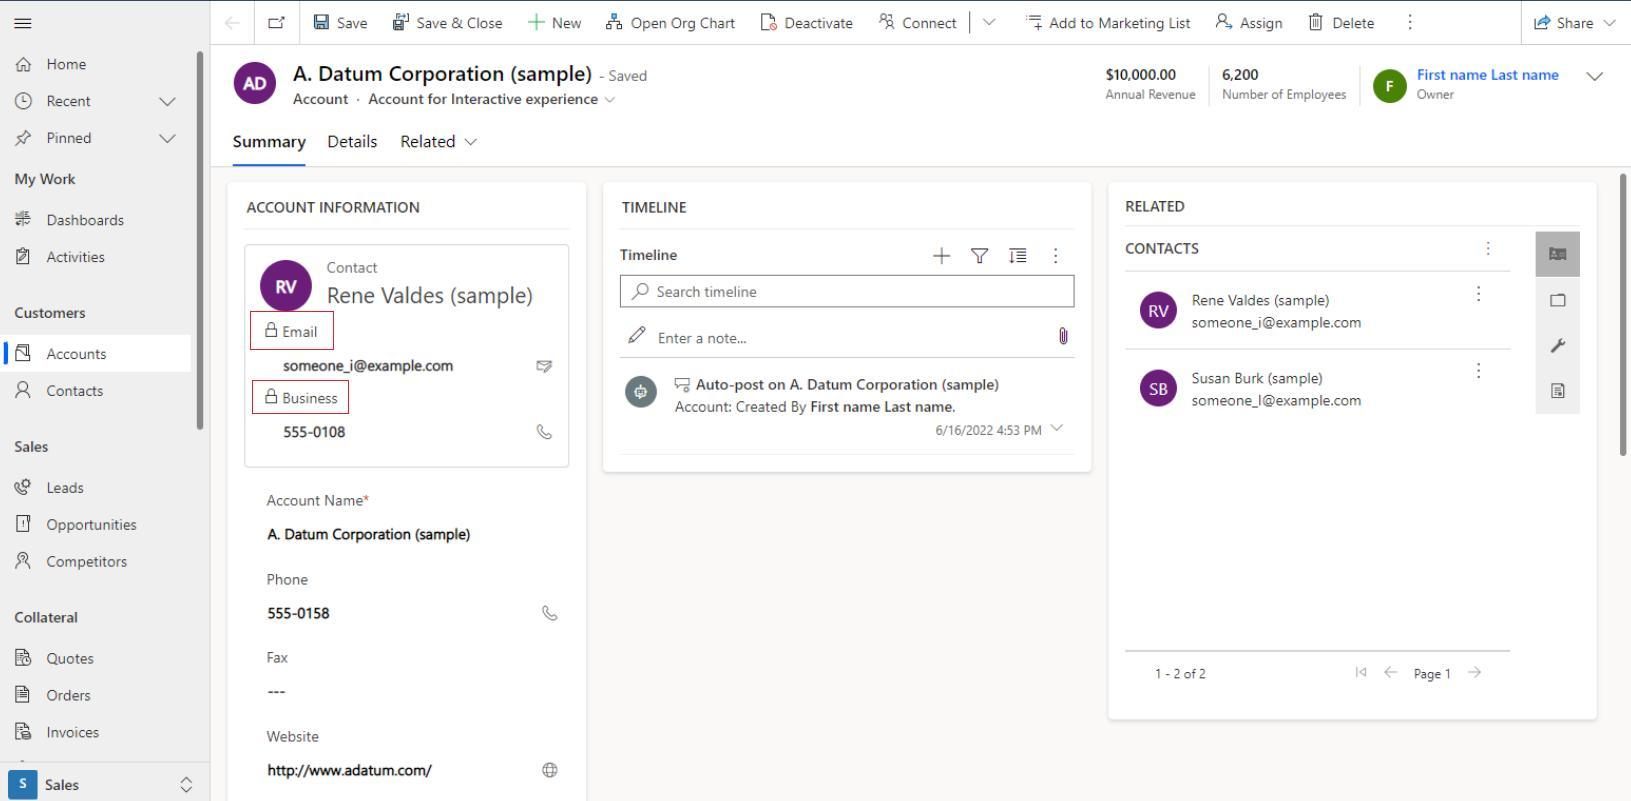button: (231, 124, 312, 166)
icon: (1545, 287, 1573, 314), (12, 14, 40, 37), (15, 87, 37, 114), (626, 322, 650, 347), (1543, 243, 1570, 265), (390, 11, 414, 35), (1547, 378, 1570, 403), (1545, 335, 1572, 356), (12, 53, 36, 76), (222, 12, 245, 35), (14, 512, 34, 537), (760, 11, 781, 36), (537, 760, 562, 781), (604, 12, 626, 35), (11, 210, 35, 231), (1006, 246, 1030, 266), (12, 717, 32, 742), (12, 246, 34, 267), (12, 379, 33, 402), (14, 547, 33, 571), (535, 423, 556, 444), (541, 602, 563, 623), (1381, 662, 1402, 683), (15, 341, 34, 364), (310, 12, 333, 32), (1214, 11, 1235, 32), (264, 17, 290, 33), (1587, 67, 1609, 86), (1047, 421, 1070, 440), (15, 645, 32, 669), (158, 94, 179, 113), (1308, 12, 1327, 33), (970, 247, 991, 266), (1532, 15, 1554, 33), (532, 360, 558, 376), (1403, 10, 1419, 35), (1025, 14, 1045, 32), (933, 248, 954, 266), (158, 131, 180, 149), (1472, 285, 1490, 307), (14, 129, 33, 148), (15, 477, 33, 497), (981, 12, 1000, 32), (1473, 358, 1487, 383), (528, 15, 547, 32), (1047, 246, 1063, 266), (1462, 665, 1483, 680), (463, 134, 481, 152), (15, 687, 31, 704), (880, 12, 895, 32), (1058, 328, 1072, 347), (1352, 664, 1369, 680), (1483, 240, 1496, 260), (1603, 17, 1617, 30)
input: (620, 275, 1077, 307)
label: (295, 64, 597, 91), (327, 282, 535, 311), (262, 526, 474, 548), (267, 759, 435, 783), (243, 200, 426, 219), (282, 359, 457, 378), (1412, 64, 1562, 85), (1190, 290, 1334, 312), (1051, 14, 1197, 34), (1190, 395, 1366, 412), (1193, 319, 1365, 335), (1188, 370, 1327, 388), (265, 494, 374, 514), (43, 515, 143, 536), (11, 303, 89, 326), (45, 210, 130, 231), (416, 15, 506, 33), (631, 16, 739, 31), (1116, 198, 1190, 219), (1124, 240, 1206, 260), (47, 553, 130, 572), (397, 130, 460, 155), (15, 167, 79, 191), (261, 605, 334, 626), (786, 12, 857, 33), (322, 130, 384, 153), (620, 199, 692, 217), (618, 246, 685, 265), (15, 608, 81, 627), (285, 423, 348, 443), (47, 249, 111, 267), (47, 346, 110, 365), (44, 127, 99, 147), (46, 54, 97, 75), (45, 725, 104, 743), (45, 384, 105, 400), (47, 92, 94, 112), (269, 728, 320, 747), (265, 571, 310, 592), (902, 17, 960, 32), (46, 651, 97, 669), (46, 686, 93, 704), (282, 393, 340, 408), (44, 477, 88, 496), (1240, 17, 1290, 33), (1332, 15, 1375, 32), (1559, 15, 1597, 34), (14, 437, 52, 455), (282, 324, 320, 340), (548, 17, 582, 33), (337, 16, 370, 30), (268, 649, 290, 668)
